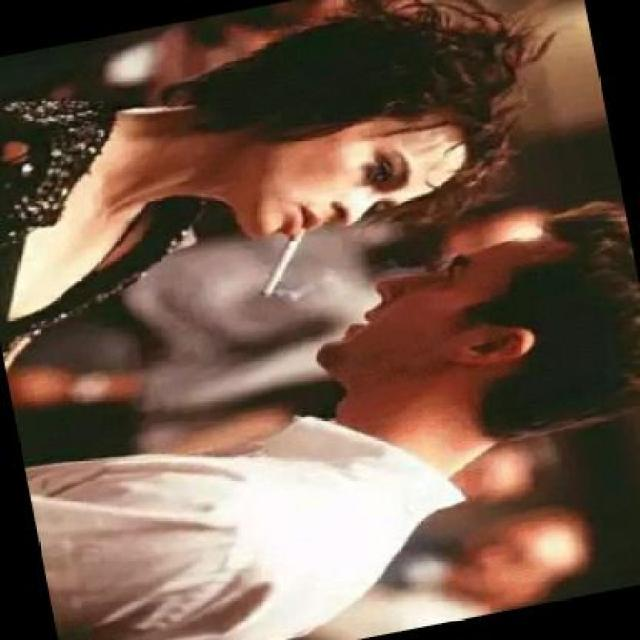smoke: (242, 225, 321, 302)
